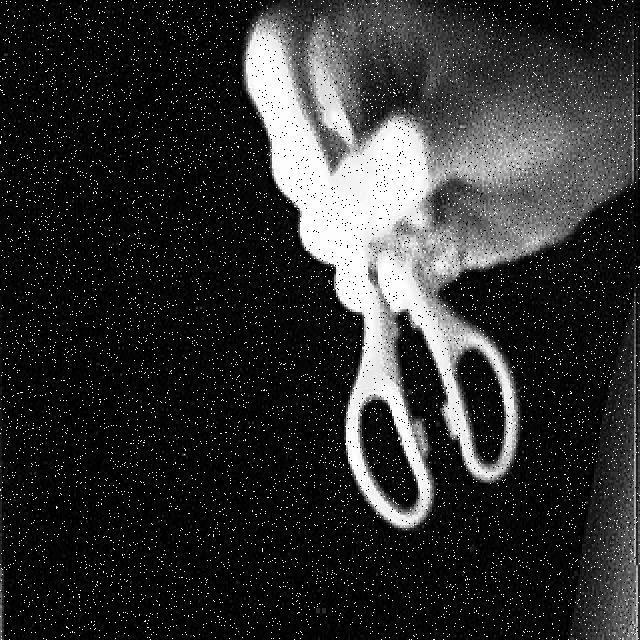scissors: (286, 20, 524, 536)
